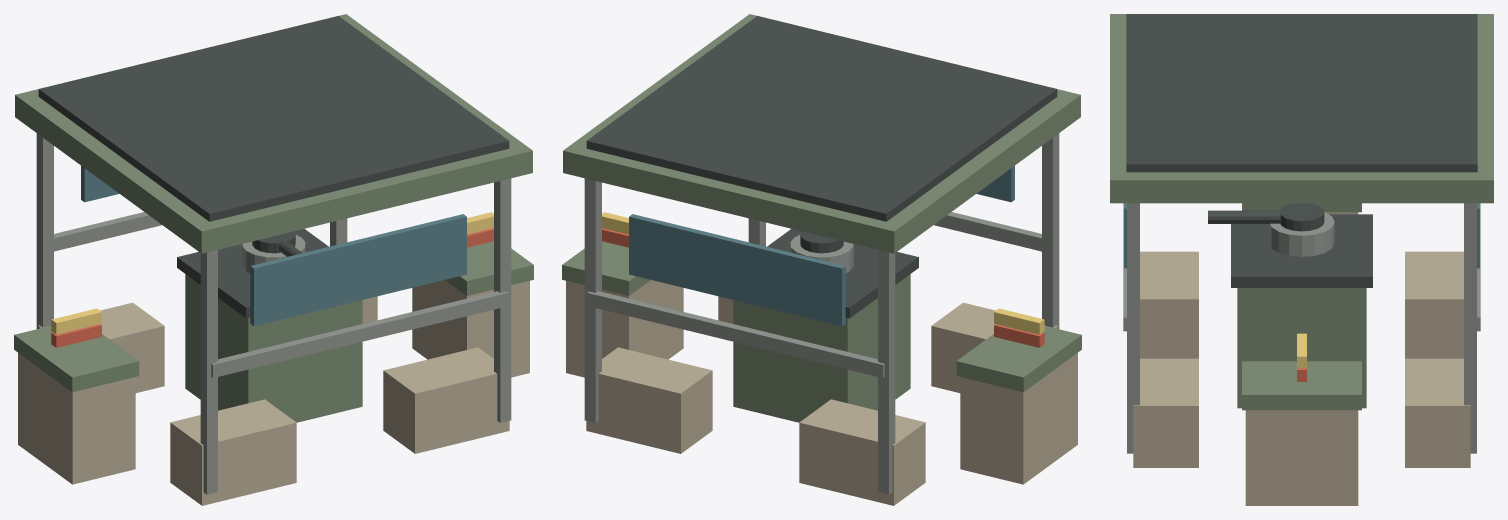
File: modern-checkpoint.gltf
3 views of the same model, side by side, from view 1: azimuth 30°, elevation 25°; view 2: azimuth 150°, elevation 25°; view 3: azimuth 270°, elevation 25° (orthographic). The views are drawn at different scales.
Visible parts, largest first — view 1: black, sand, olive, metal, glass, yellow, red; view 2: black, sand, olive, metal, glass, yellow, red; view 3: black, sand, olive, metal.
Boxes of the visible parts, x1,y1,x2,y2 form: black: (38, 16, 509, 318); sand: (18, 280, 529, 505); olive: (14, 14, 533, 422); metal: (36, 133, 511, 494); glass: (81, 166, 466, 326); yellow: (51, 212, 493, 334); red: (51, 228, 493, 347); black: (586, 16, 1057, 318); sand: (566, 280, 1077, 505); olive: (562, 14, 1081, 422); metal: (584, 133, 1059, 494); glass: (629, 166, 1014, 326); yellow: (602, 212, 1044, 334); red: (602, 228, 1044, 347); black: (1126, 14, 1477, 287); sand: (1133, 212, 1470, 505); olive: (1110, 14, 1493, 410); metal: (1123, 203, 1480, 453).
Size of the model in its own units: 5.85 by 3.56 by 4.1.
